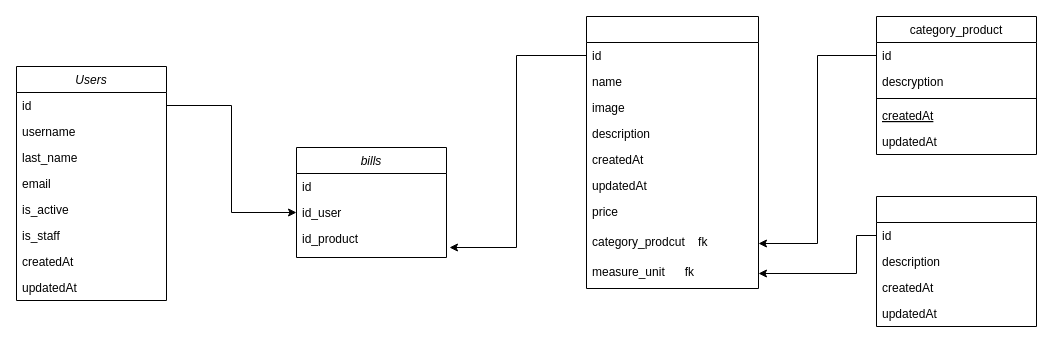
This 1053x343 diagram has some shape labels left out. Here are the shapes that lost their labels. From the top down, the box of each, then its label:
(586, 16, 758, 288): products
(876, 196, 1036, 326): measure_unit
